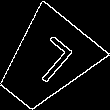L_SW: (17, 33, 75, 91)
